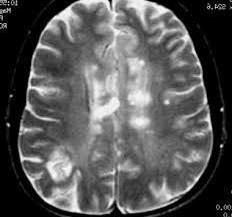Normal_Brain: (2, 1, 232, 217)
